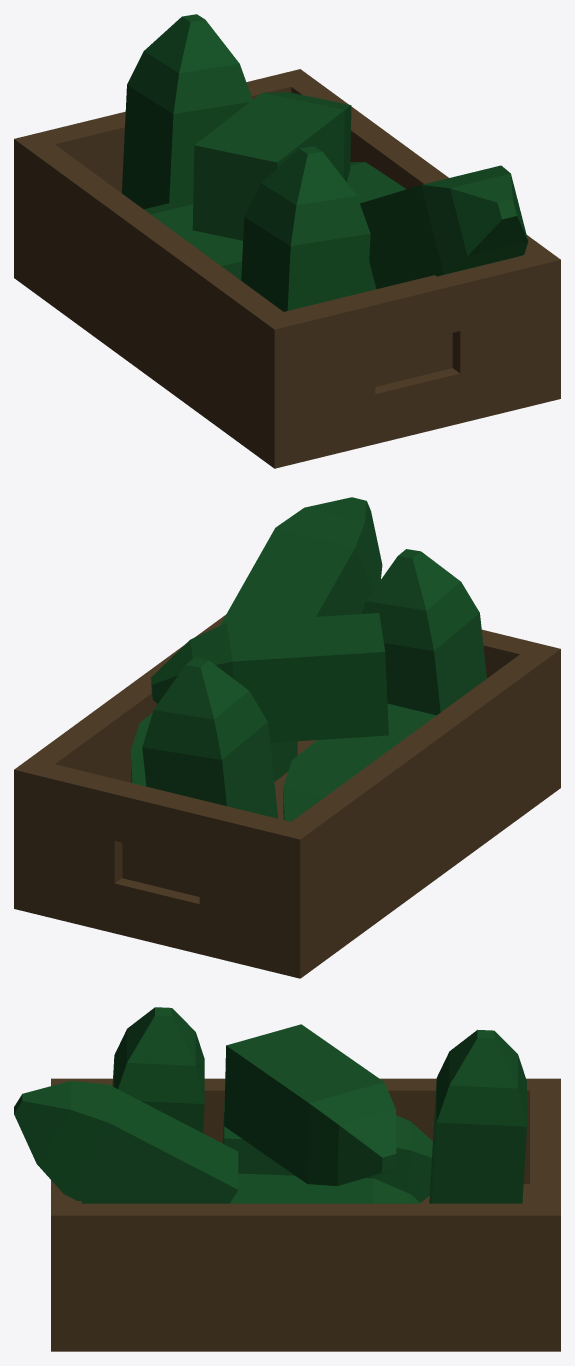
File: crate_small_shells.fbx
3 renders of one model, top to bottom at view 1: azimuth 30°, elevation 25°; view 2: azimuth 150°, elevation 25°; view 3: azimuth 270°, elevation 25°, orthographic. The views are drawn at different scales.
Visible parts, largest first — view 1: Cube; view 2: Cube; view 3: Cube.
Part boxes in pixels (<box>): Cube: <box>14,14,560,468</box>; Cube: <box>14,497,560,978</box>; Cube: <box>14,1007,560,1351</box>.
Bounding box in the file's own units: 127 × 108 × 214.
